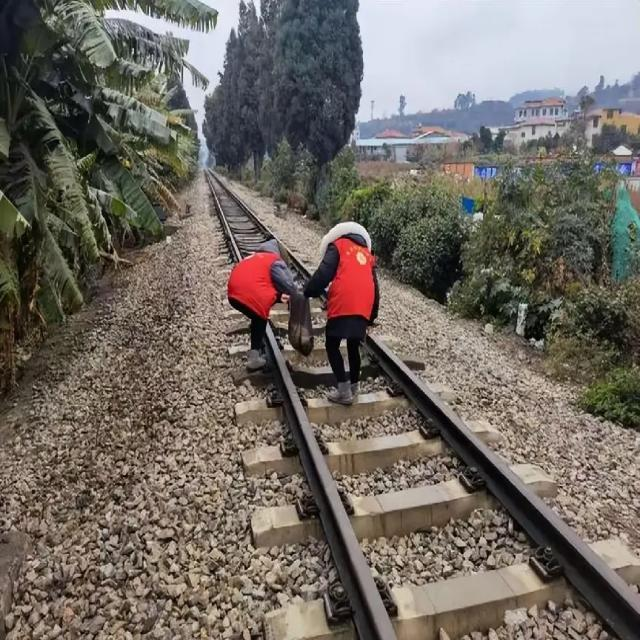people: (296, 215, 382, 412), (225, 235, 298, 366)
